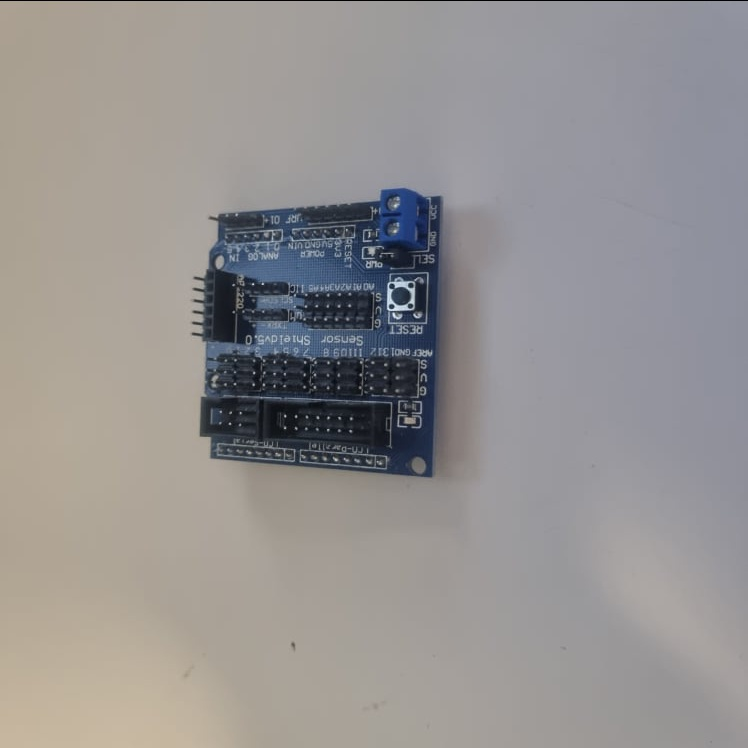5V EXPANSION: (186, 182, 441, 480)
